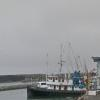Boat: (21, 69, 100, 97)
